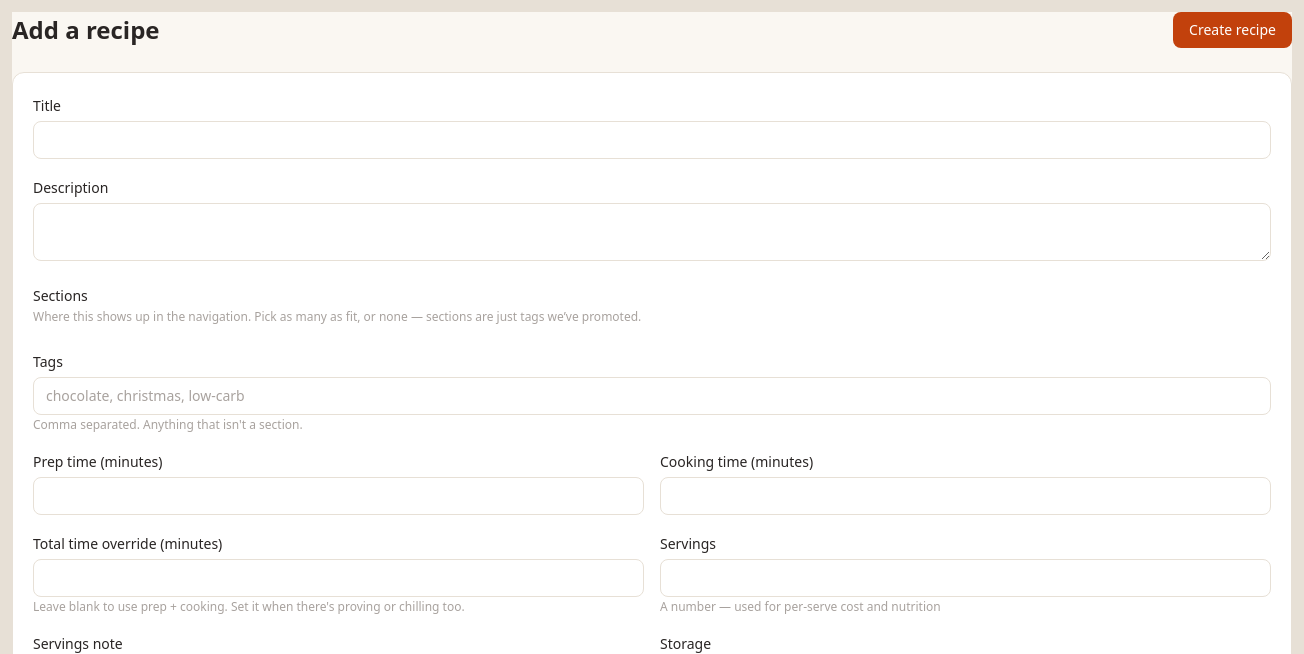
Test: RecipeFormPage — creating › shows an error and re-enables the form when creation fails
In the field labelled "Title": (652, 140) [33, 121, 1271, 159], type "New Recipe"
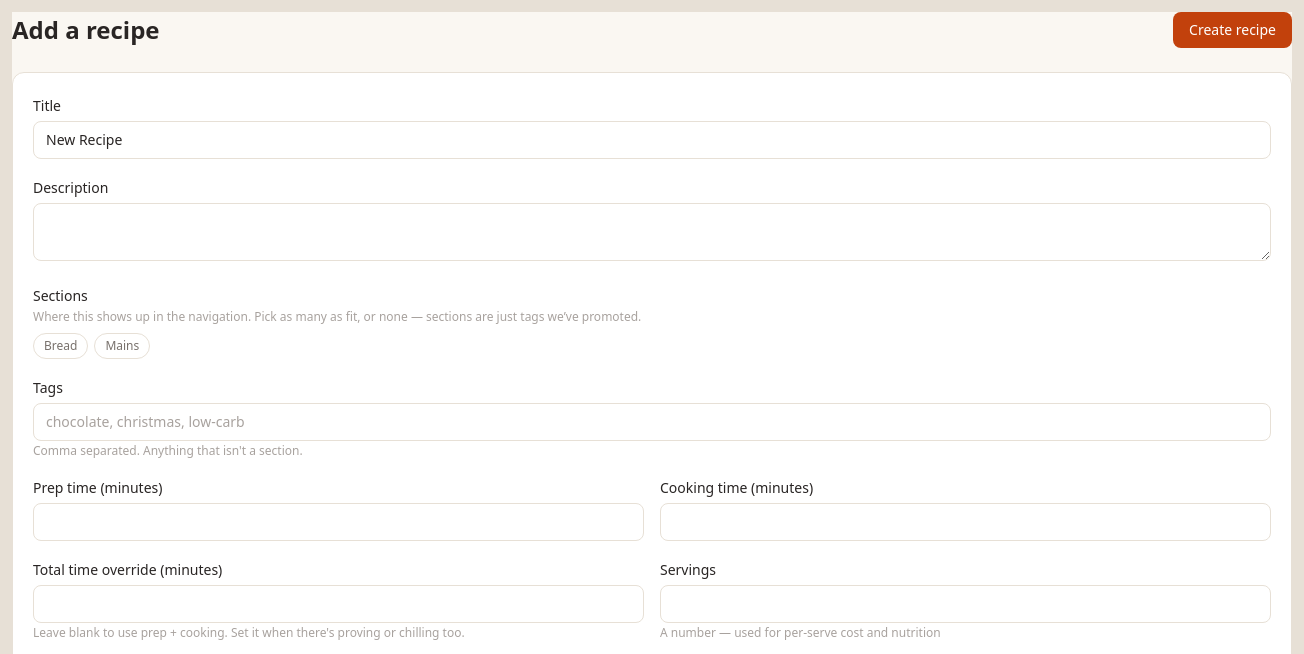
Click the button "Create recipe": (1233, 30) [1173, 12, 1292, 48]
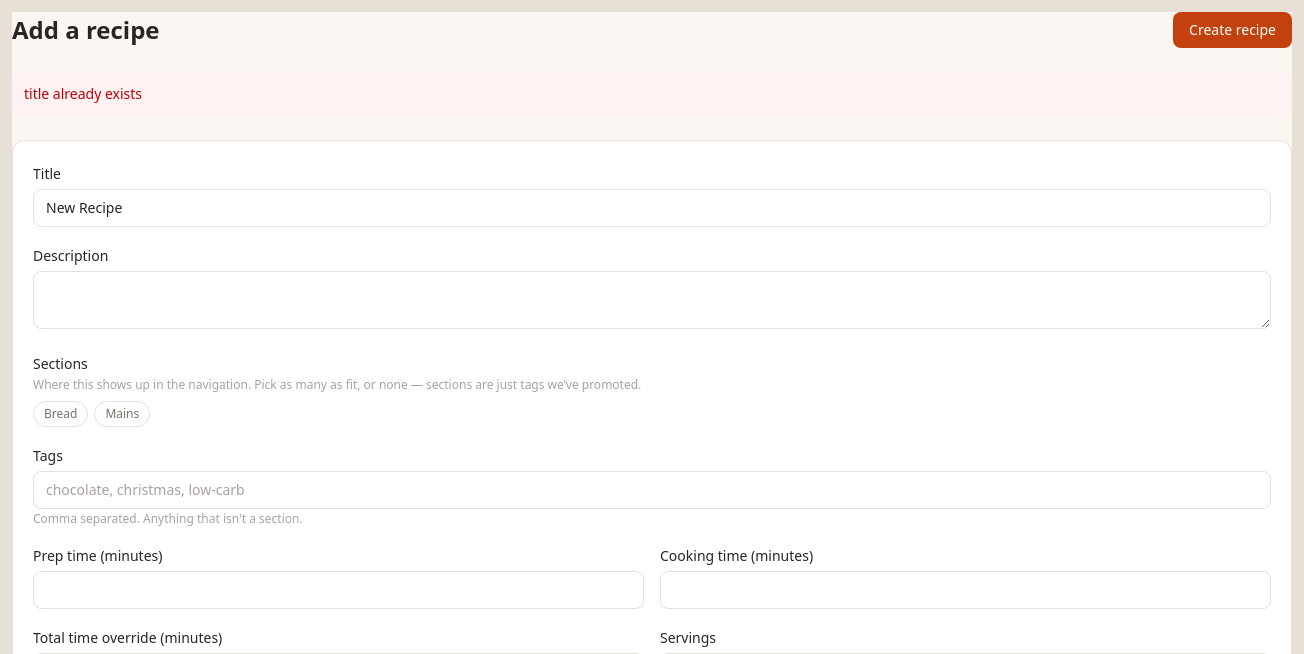
Now the text "title already exists" is shown, box [12, 72, 1292, 116]
